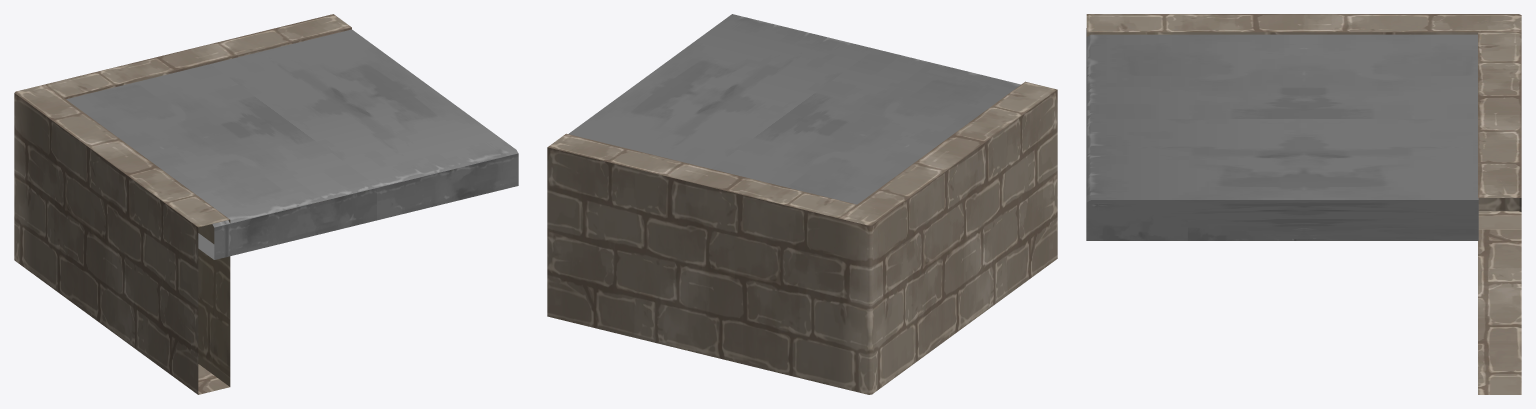
The model's file is Stairs_Exterior_Platform45Clean.gltf.
The picture shows the model from 3 angles, left to right: view 1: azimuth 30°, elevation 25°; view 2: azimuth 150°, elevation 25°; view 3: azimuth 270°, elevation 25°; orthographic projection. The views are drawn at different scales.
Parts seen in each view (by area): view 1: Stairs_Exterior_Platform45Clean; view 2: Stairs_Exterior_Platform45Clean; view 3: Stairs_Exterior_Platform45Clean.
Part boxes in pixels (left/top/right/bottom): Stairs_Exterior_Platform45Clean: left=14, top=14, right=518, bottom=394; Stairs_Exterior_Platform45Clean: left=547, top=14, right=1057, bottom=394; Stairs_Exterior_Platform45Clean: left=1086, top=14, right=1521, bottom=394.
Size of the model in its own units: 2 by 1 by 2.
2 materials, 2 textured.
